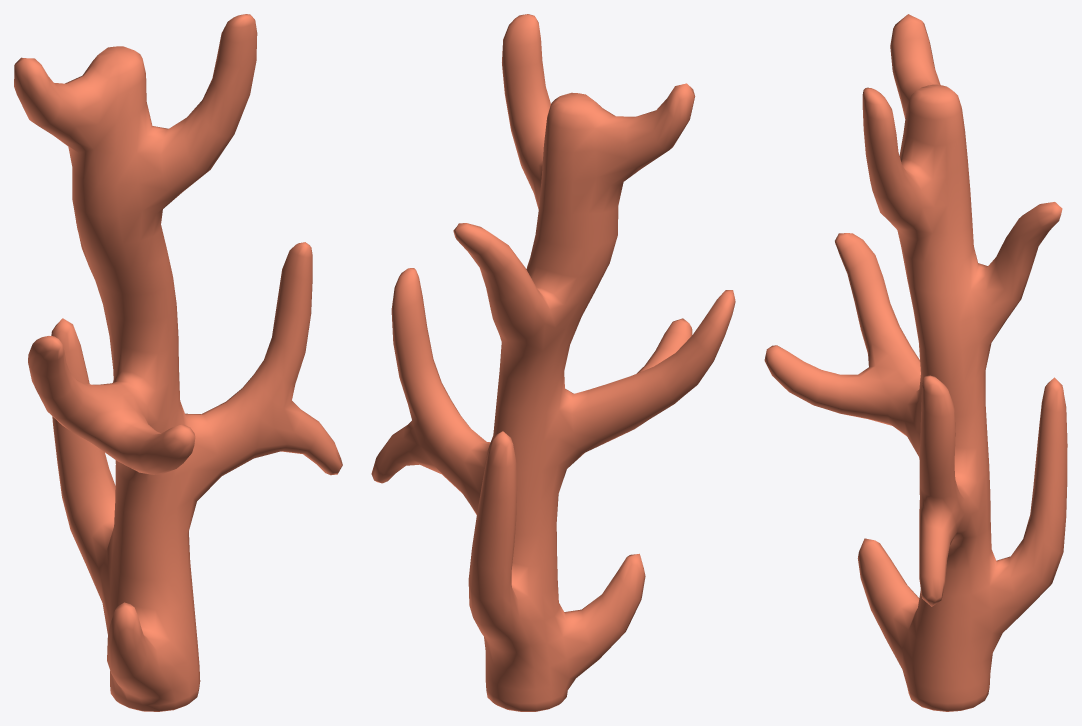
File: Coral_B_03.fbx
3 renders of one model, left to right at view 1: azimuth 30°, elevation 25°; view 2: azimuth 150°, elevation 25°; view 3: azimuth 270°, elevation 25°, orthographic. The views are drawn at different scales.
Parts seen in each view (by area): view 1: Coral_B_03_LOD0; view 2: Coral_B_03_LOD0; view 3: Coral_B_03_LOD0.
Boxes of the visible parts, x1,y1,x2,y2 form: Coral_B_03_LOD0: [14, 14, 342, 711]; Coral_B_03_LOD0: [371, 14, 735, 711]; Coral_B_03_LOD0: [764, 14, 1067, 711].
Size of what is drawn, in the model's own units: 496 by 954 by 418.
